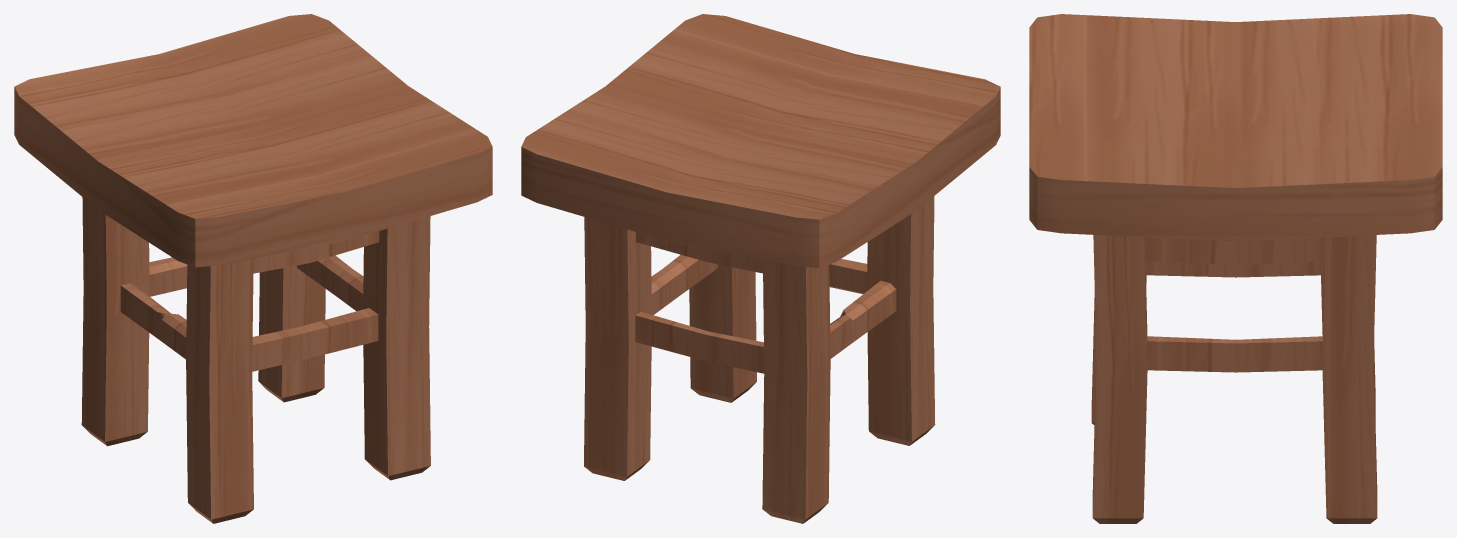
The model's file is chair_01.fbx.
3 renders of one model, left to right at view 1: azimuth 30°, elevation 25°; view 2: azimuth 150°, elevation 25°; view 3: azimuth 270°, elevation 25°, orthographic. The views are drawn at different scales.
Visible parts, largest first — view 1: chair_01; view 2: chair_01; view 3: chair_01.
Boxes of the visible parts, bbox=[...] form: chair_01: bbox=[14, 14, 492, 523]; chair_01: bbox=[521, 14, 1000, 523]; chair_01: bbox=[1029, 14, 1442, 523].
Size of the model in its own units: 20.58 by 21.38 by 21.66.
